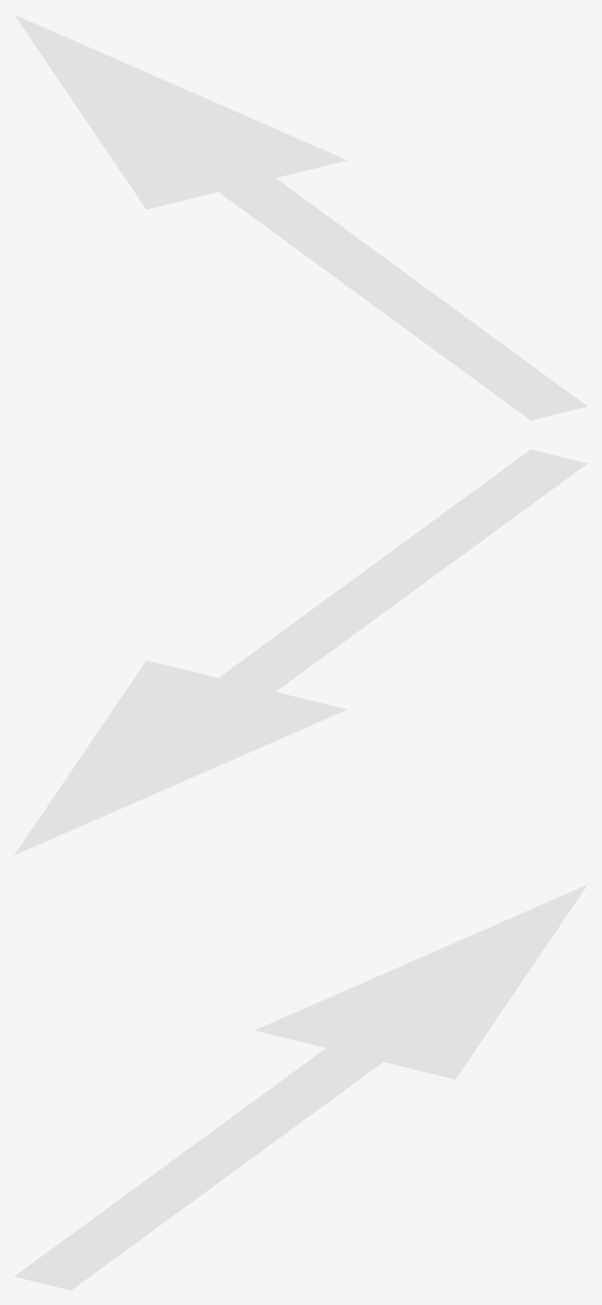
The model's file is signWhiteArrow.glb.
3 views of the same model, one above another, from view 1: azimuth 30°, elevation 25°; view 2: azimuth 150°, elevation 25°; view 3: azimuth 330°, elevation 25° (orthographic).
Visible parts, largest first — view 1: Arrow_02_free; view 2: Arrow_02_free; view 3: Arrow_02_free.
Boxes of the visible parts, x1,y1,x2,y2 form: Arrow_02_free: [14, 14, 587, 420]; Arrow_02_free: [14, 449, 587, 855]; Arrow_02_free: [14, 884, 587, 1290].
Size of the model in its own units: 1.22 by 1.27e-15 by 5.71.
Materials: 1 (1 with a texture image).
